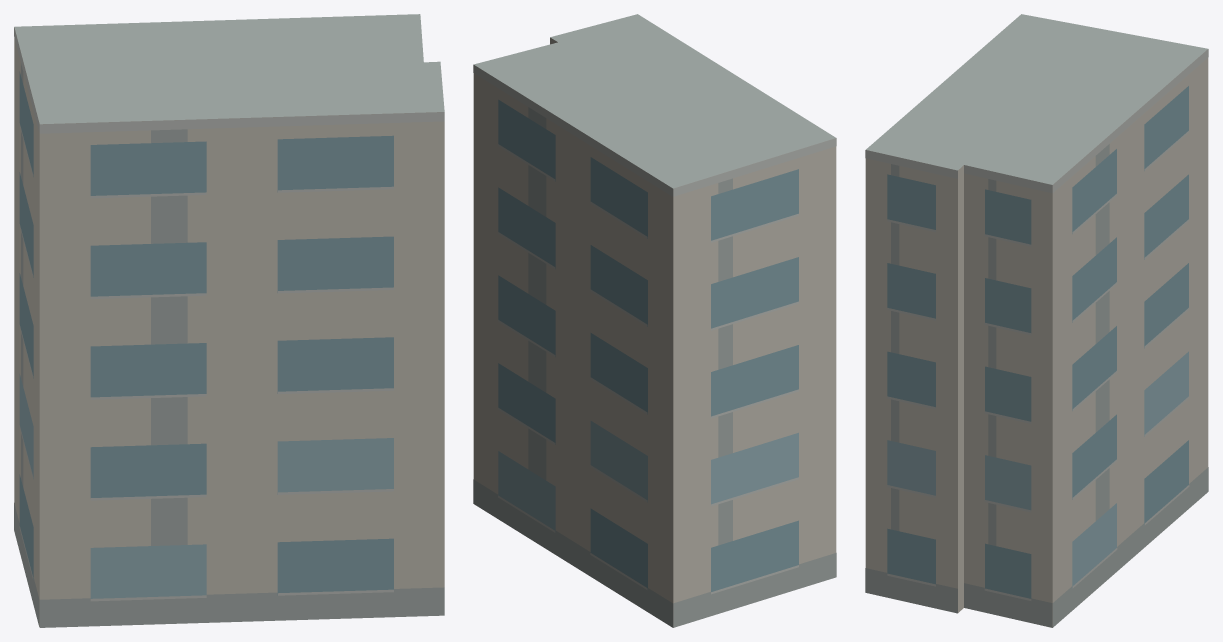
Rendered from survey-upis-32734765.glb.
The picture shows the model from 3 angles, left to right: view 1: azimuth 30°, elevation 25°; view 2: azimuth 150°, elevation 25°; view 3: azimuth 270°, elevation 25°; orthographic projection. The views are drawn at different scales.
Parts seen in each view (by area): view 1: survey-upis-32734765.tmp; view 2: survey-upis-32734765.tmp; view 3: survey-upis-32734765.tmp.
Part boxes in pixels (left/top/right/bottom): survey-upis-32734765.tmp: left=14, top=14, right=444, bottom=627; survey-upis-32734765.tmp: left=473, top=14, right=836, bottom=627; survey-upis-32734765.tmp: left=865, top=14, right=1208, bottom=627.
Bounding box in the file's own units: 10.61 × 12.8 × 8.99.
